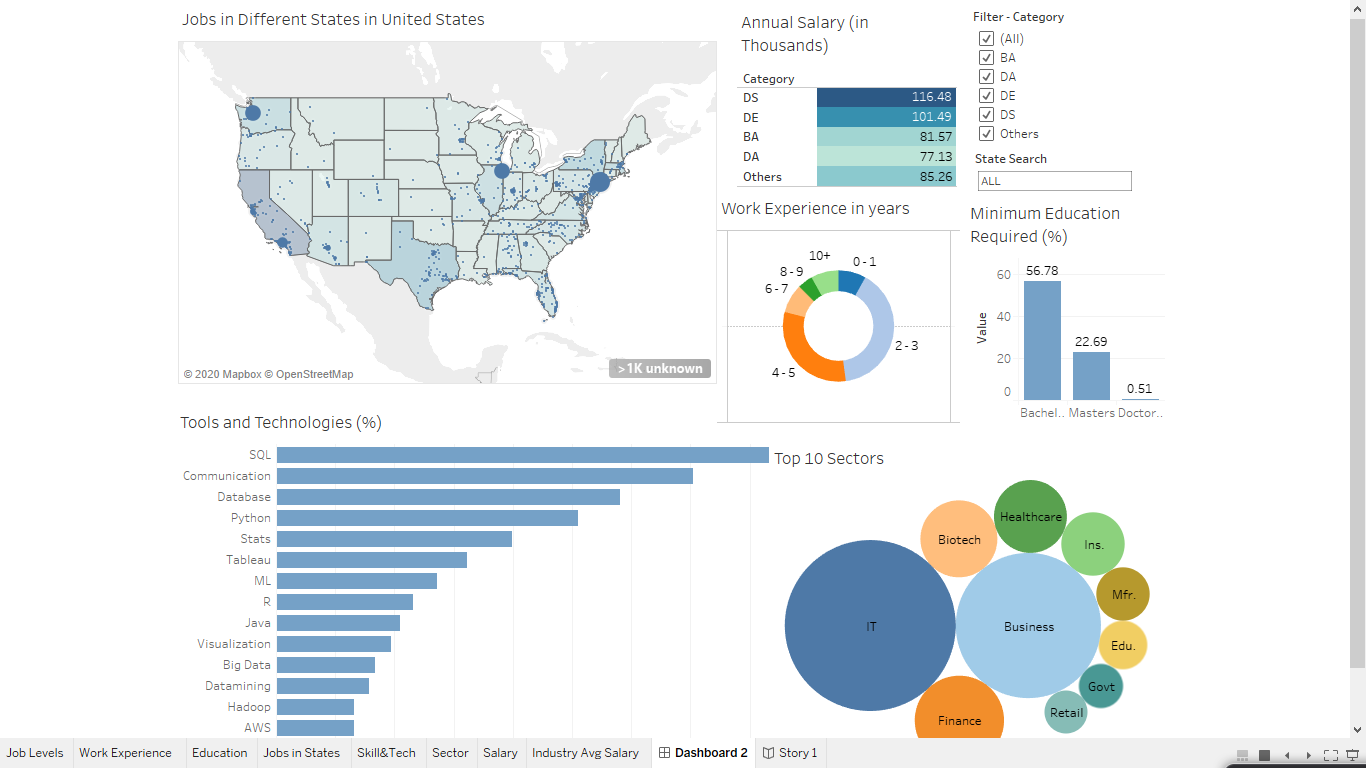

This screenshot's page, from the dashboard's own definition file:
{"tool":"tableau","page":{"name":"Dashboard 2","canvas":[1000,800],"ordinal":0},"visuals":[{"type":"worksheet","box":[0,0,1000,800]},{"type":"worksheet","title":"Jobs in States","mark":"Automatic","box":[4,5,539,381]},{"type":"worksheet","param":"vert","box":[8,8,984,784]},{"type":"worksheet","box":[8,8,984,784]},{"type":"worksheet","title":"Salary","mark":"Square","rows":["category"],"box":[563,8,220,181]},{"type":"worksheet","title":"Education","mark":"Automatic","param":"[federated.1y1gwm61scc9wo16vo5ve0vhxvkt].[none:category:nk]","box":[799,10,160,138]},{"type":"worksheet","param":"[Parameters].[State Parameter]","box":[801,152,160,44]},{"type":"worksheet","title":"Work Experience ","mark":"Pie","rows":["Flag_aws","Flag_aws"],"box":[543,194,244,231]},{"type":"worksheet","title":"Education","mark":"Automatic","box":[792,199,199,224]},{"type":"worksheet","title":"Skill&Tech","mark":"Automatic","box":[2,408,618,387]},{"type":"worksheet","title":"Sector","mark":"Circle","box":[596,444,394,323]}]}

Visuals, with their boxes on the page's 1000x800 design canvas (x1, y1, x2, y2). These are canvas units, not pixel positions in the 1366x768 screenshot, which may show the page scaled, cropped or inside an application window:
worksheet: bbox(0, 0, 1000, 800)
"Jobs in States" worksheet: bbox(4, 5, 543, 386)
worksheet: bbox(8, 8, 992, 792)
worksheet: bbox(8, 8, 992, 792)
"Salary" worksheet (Square marks): bbox(563, 8, 783, 189)
"Education" worksheet: bbox(799, 10, 959, 148)
worksheet: bbox(801, 152, 961, 196)
"Work Experience " worksheet (Pie marks): bbox(543, 194, 787, 425)
"Education" worksheet: bbox(792, 199, 991, 423)
"Skill&Tech" worksheet: bbox(2, 408, 620, 795)
"Sector" worksheet (Circle marks): bbox(596, 444, 990, 767)
